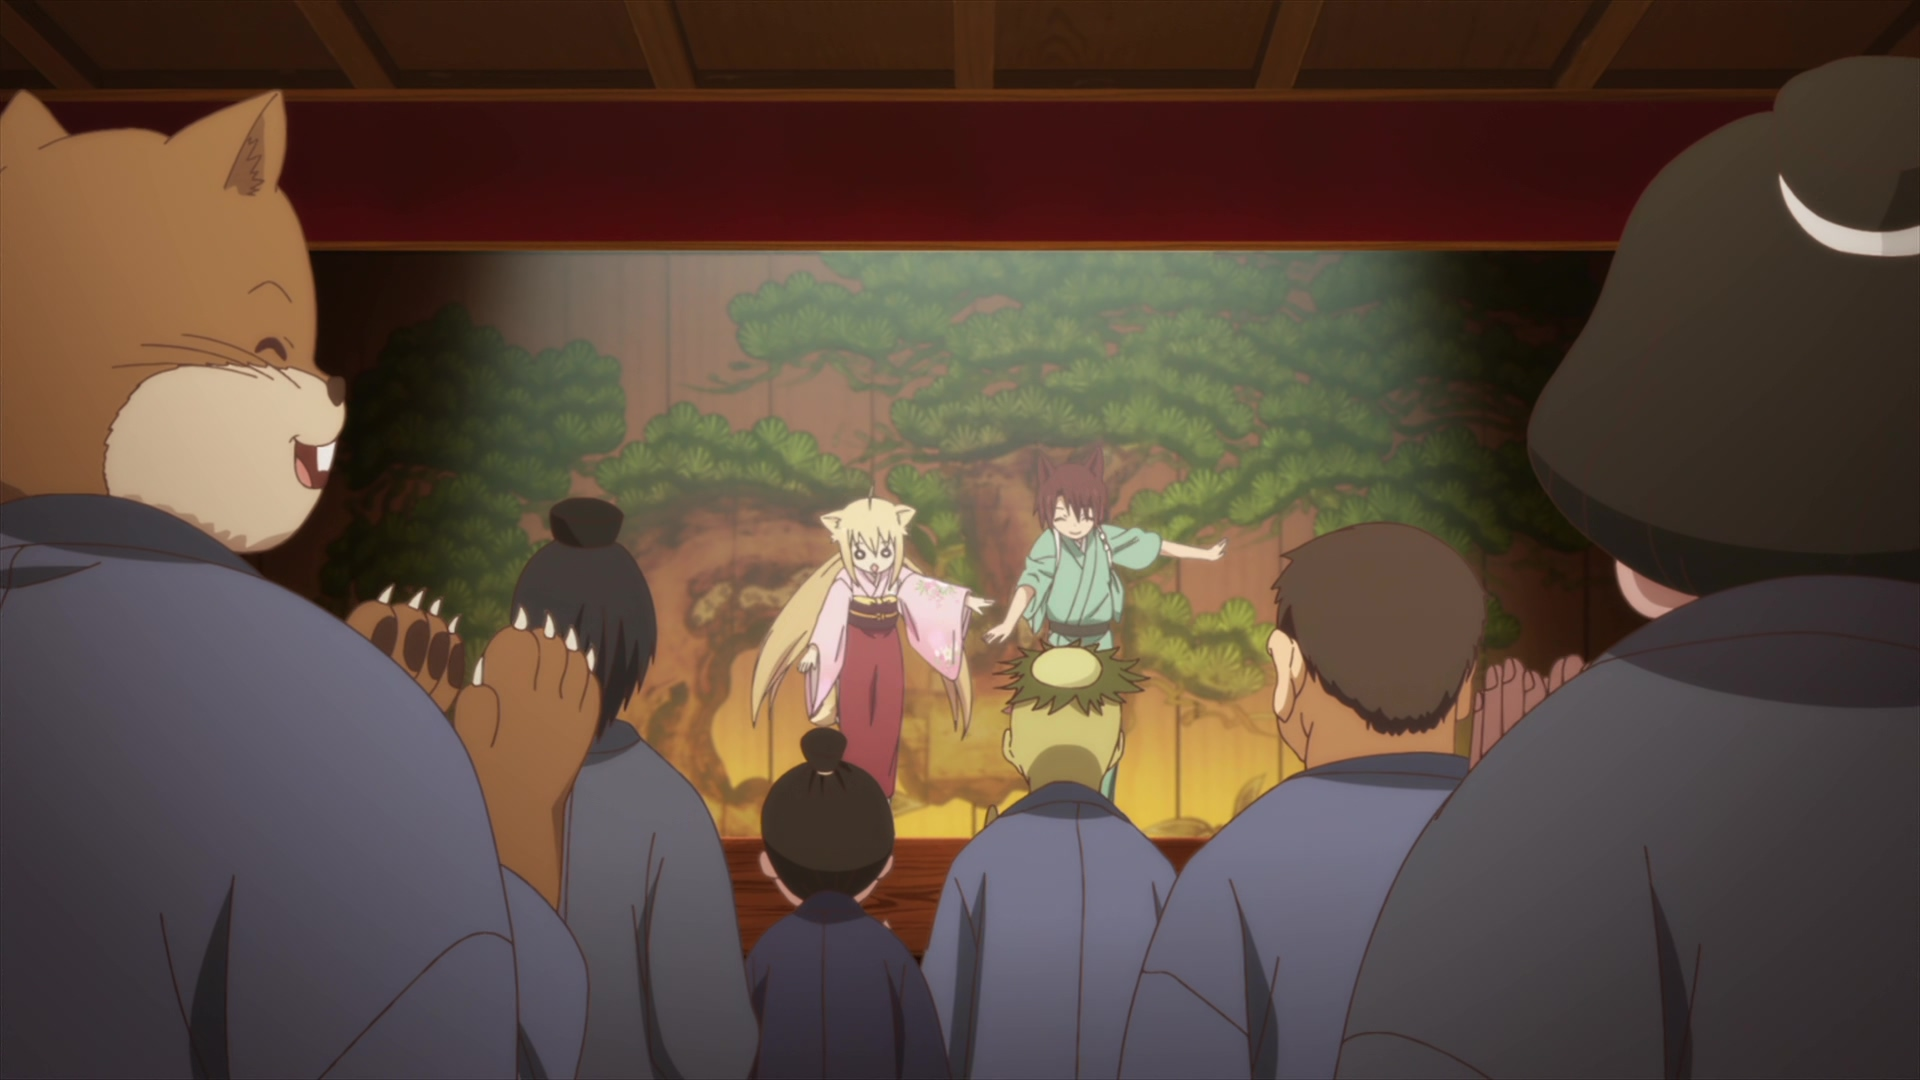其他: (1, 90, 599, 1080), (1340, 61, 1920, 1080), (1121, 520, 1485, 1080), (464, 498, 756, 1080), (920, 641, 1174, 1080), (744, 731, 944, 1080)
枣: (988, 446, 1225, 796)
柚: (752, 487, 996, 800)
